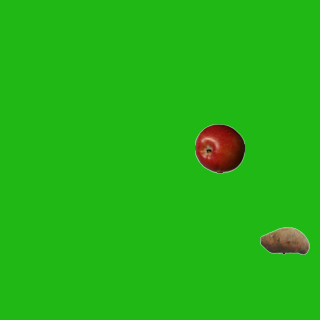Apple Braeburn: (194, 123, 244, 173)
Potato Sweet: (259, 215, 309, 265)
